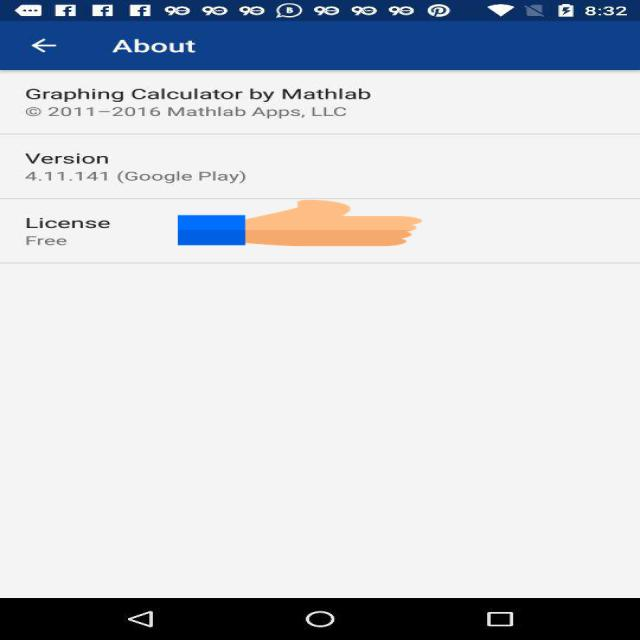privacy zuckering: (178, 199, 422, 247)
